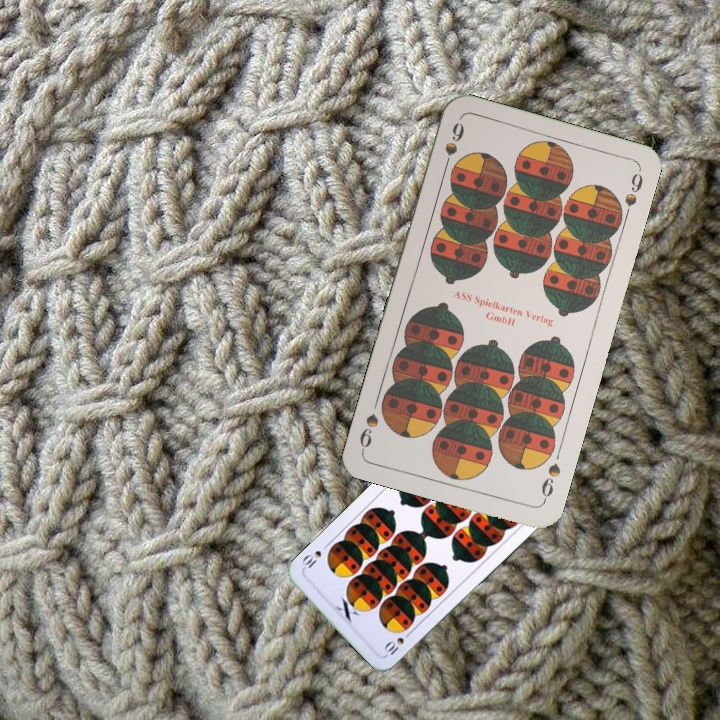S10: (380, 627, 415, 658)
S9: (439, 118, 467, 175), (537, 459, 563, 505)
